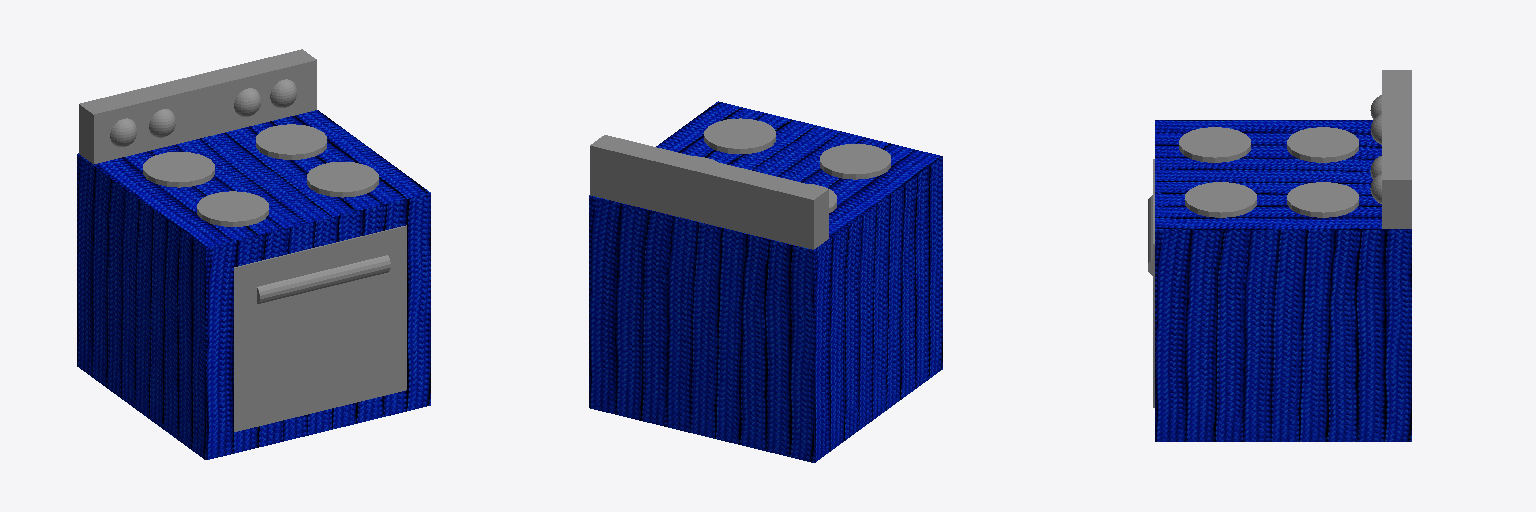
The picture shows the model from 3 angles: view 1: azimuth 30°, elevation 25°; view 2: azimuth 150°, elevation 25°; view 3: azimuth 270°, elevation 25°; orthographic projection.
Visible parts, largest first — view 1: Box001, Box002, Box003, Cylinder001, Cylinder002, Cylinder003, Cylinder005, Cylinder004, Sphere002, Sphere004, Sphere001, Sphere003; view 2: Box001, Box003, Cylinder005, Cylinder002; view 3: Box001, Box003, Cylinder005, Cylinder002, Cylinder003, Cylinder004.
Part boxes in pixels (x1,y1,x2,y2): Box001: (77,110,430,459); Box002: (234,225,406,431); Box003: (79,49,316,164); Cylinder001: (257,255,390,303); Cylinder002: (197,191,268,226); Cylinder003: (143,152,214,187); Cylinder005: (307,162,378,197); Cylinder004: (256,124,326,159); Sphere002: (149,109,175,137); Sphere004: (234,88,260,116); Sphere001: (110,118,136,146); Sphere003: (270,79,296,107); Box001: (589,101,942,462); Box003: (590,135,828,249); Cylinder005: (704,118,775,153); Cylinder002: (820,144,890,179); Box001: (1155,120,1411,441); Box003: (1382,70,1411,228); Cylinder005: (1185,182,1256,217); Cylinder002: (1179,127,1250,162); Cylinder003: (1287,127,1358,162); Cylinder004: (1287,182,1358,217).
Bounding box in the file's own units: 11.31 × 12.58 × 11.51.
4 materials, 1 textured.